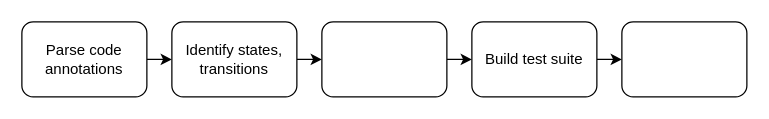
Image size: 769x119. Some labels were removed from this diagram. The shapes that lost their labels are listed below. From the top down, each one's centre as x and y in pixels, then its label:
At (384,59): "Collect failure modes & steps".
At (684,59): "Generate test source code".
